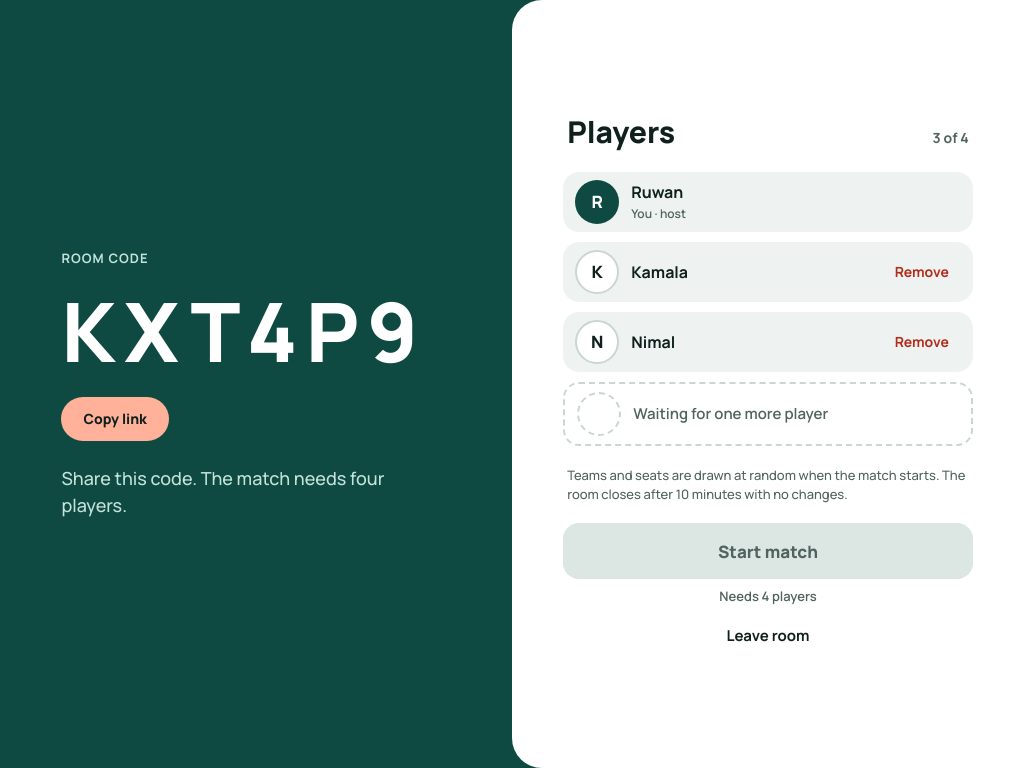
Test case: LobbyScreen › copies the room link and says so
What coordinates should you click on to do the following:
click the button "Copy link"
I would click on:
 (115, 419)
Its box is [61,397,169,441].
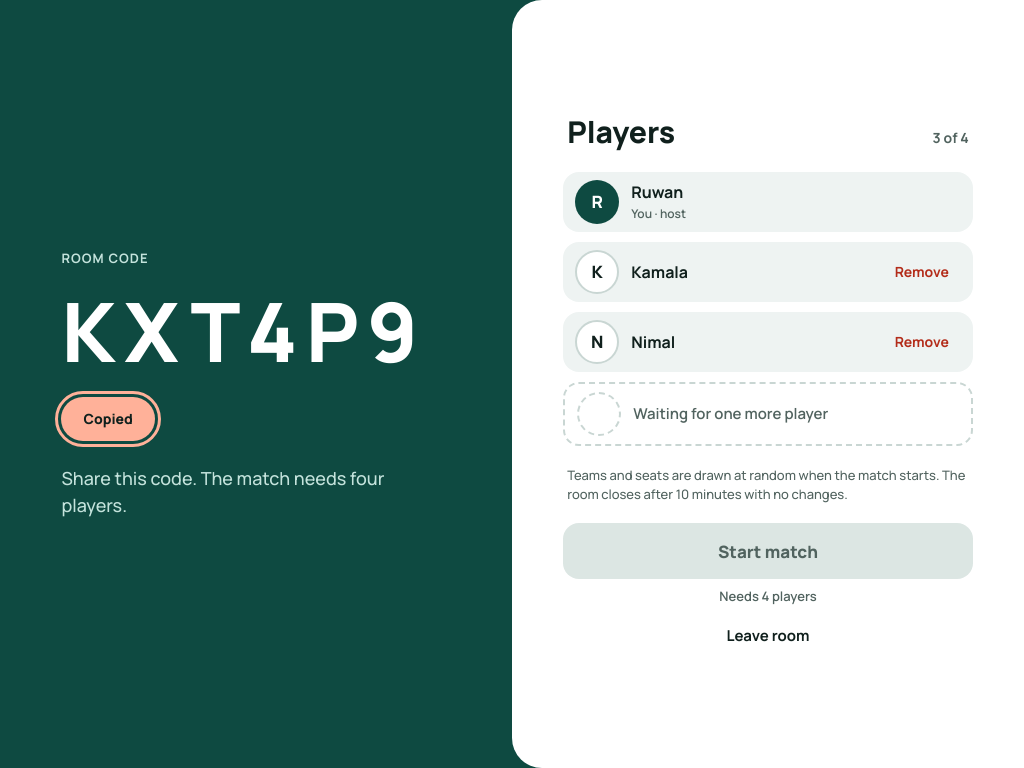
Now the button "Copied" is shown, box [61,397,155,441]
